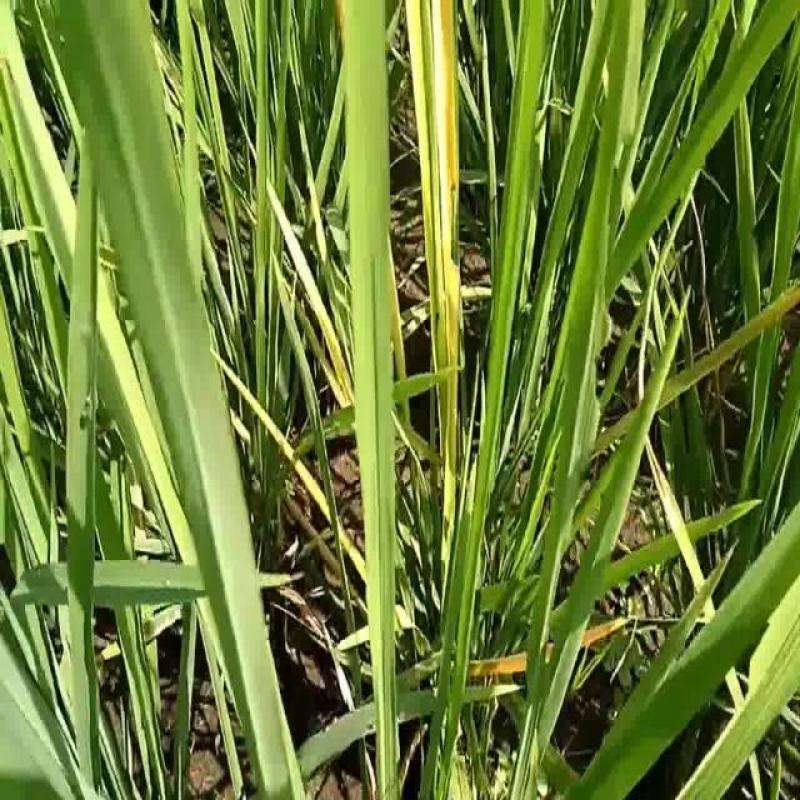Rice Tungro: (432, 4, 470, 364), (405, 2, 435, 316)
